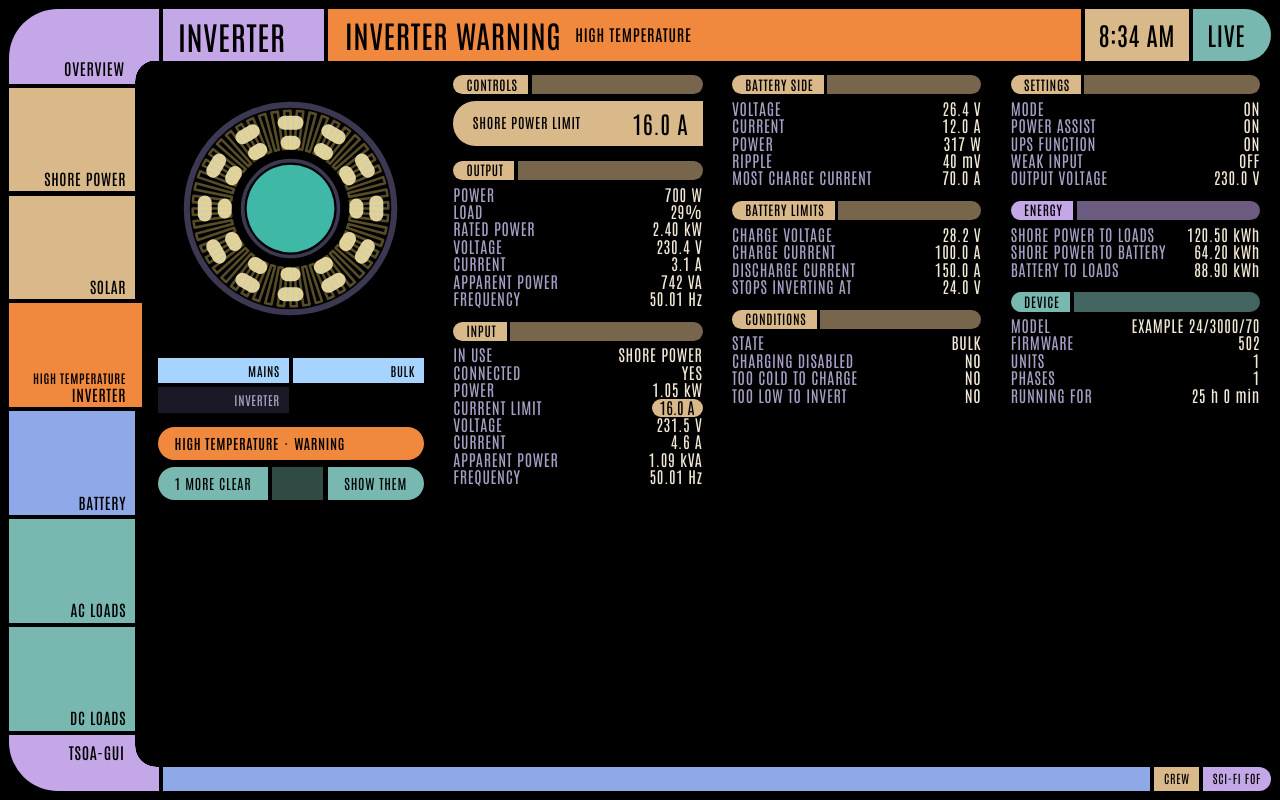
Scenario: the input limit screen in Sci-Fi FOF › offers no change while the device does not allow one
Step 1. Click the button "Shore power limit 16.0 A" → (578, 123), box x1=453 y1=101 x2=703 y2=146
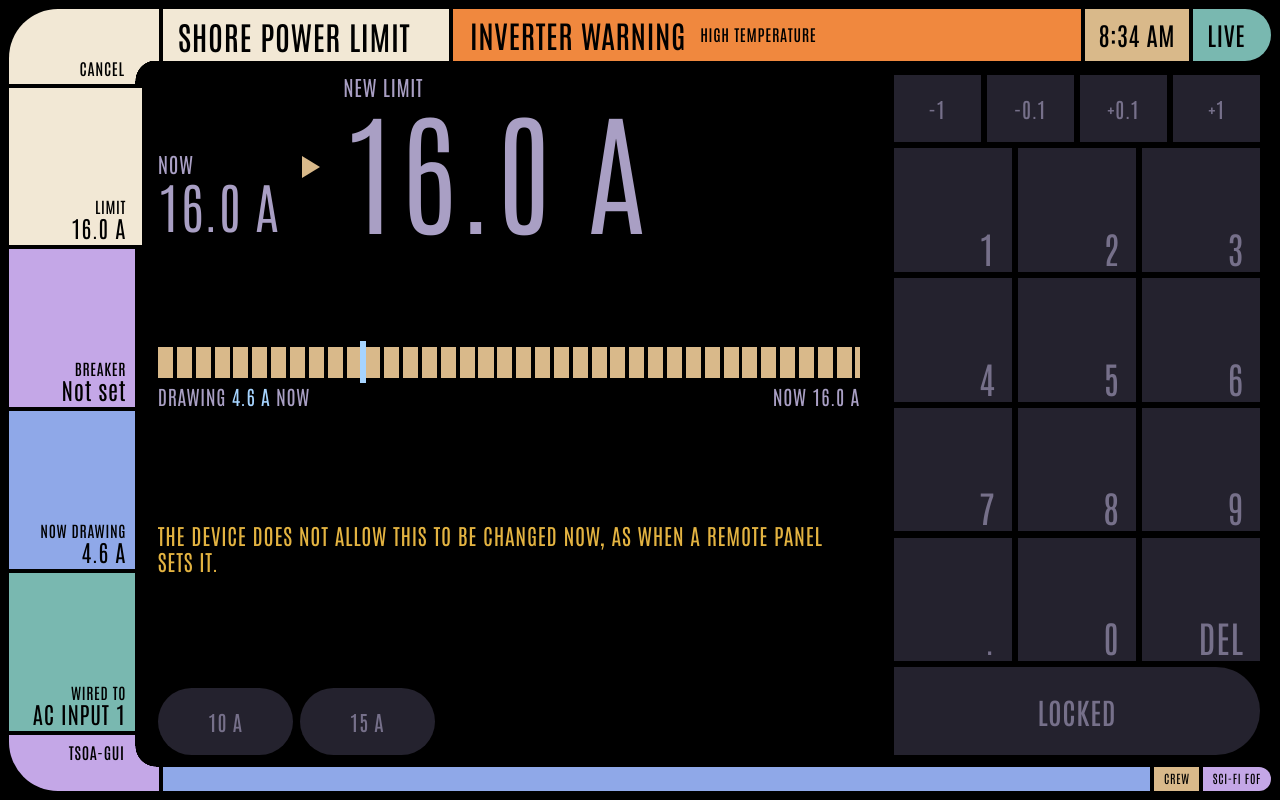
Check: the button "1" is disabled, box x1=894 y1=148 x2=1012 y2=272
Check: the 3rd message shows "does not allow this to be changed now", box x1=158 y1=521 x2=823 y2=575
Check: the button "Locked" is disabled, box x1=894 y1=668 x2=1260 y2=756
